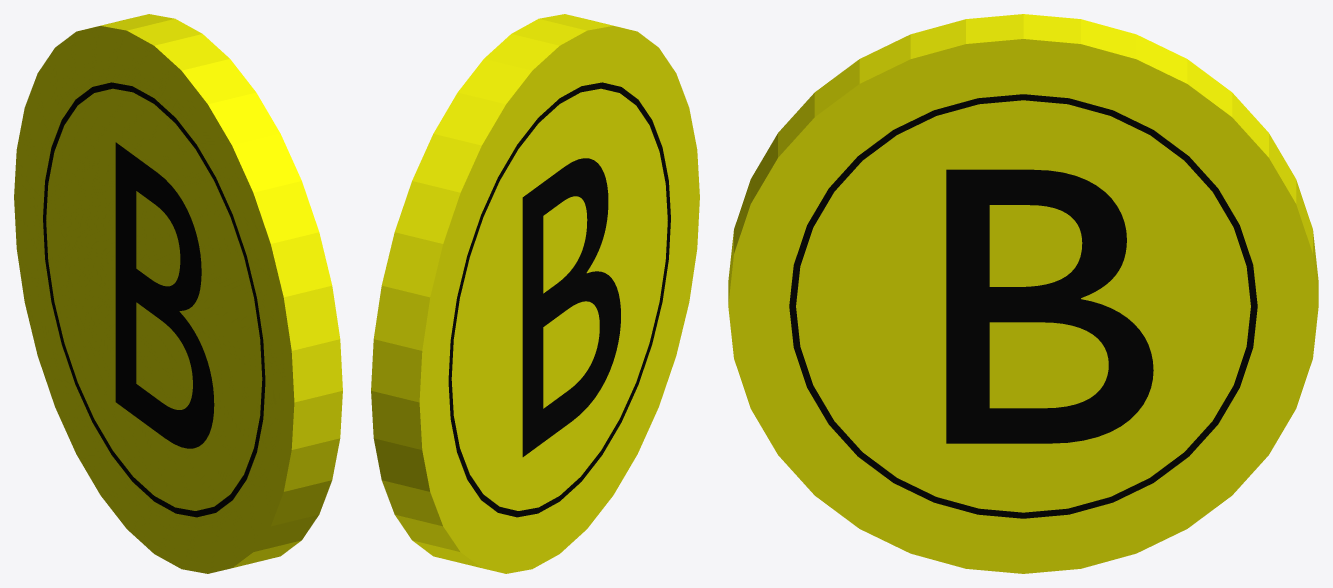
File: Coin.fbx
3 views of the same model, side by side, from view 1: azimuth 30°, elevation 25°; view 2: azimuth 150°, elevation 25°; view 3: azimuth 270°, elevation 25° (orthographic). The views are drawn at different scales.
Visible parts, largest first — view 1: Cylinder, Text; view 2: Cylinder, Text; view 3: Cylinder, Text.001.
Boxes of the visible parts, box(x1,y1,x2,y2) form: Cylinder: box(14, 14, 342, 573); Text: box(115, 142, 214, 448); Cylinder: box(371, 14, 699, 573); Text: box(522, 158, 620, 456); Cylinder: box(728, 14, 1318, 573); Text.001: box(946, 169, 1153, 443).
Bounding box in the file's own units: 20.62 × 200 × 200.
